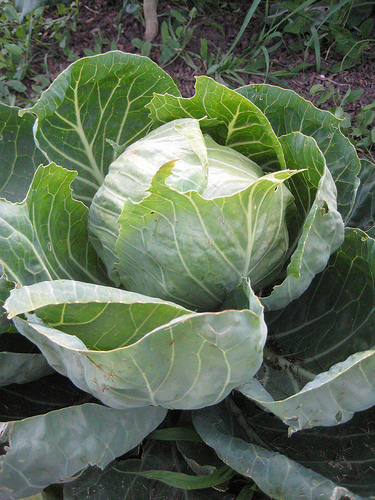cabbage: (0, 48, 373, 498)
